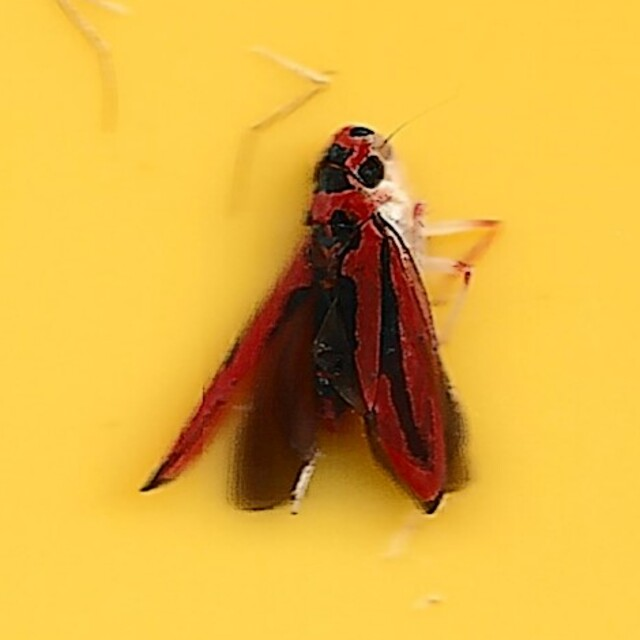Hemiptera: (136, 124, 504, 516)
